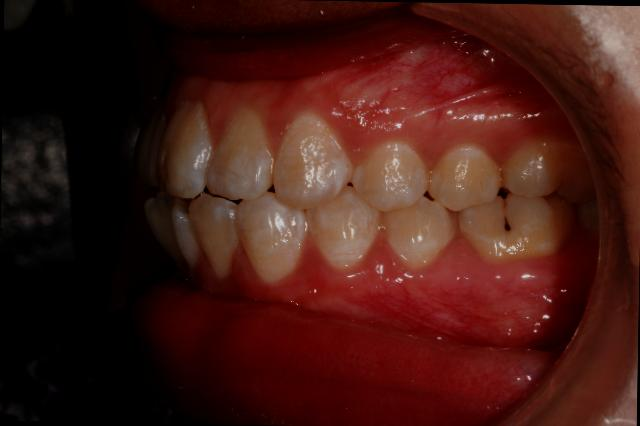canine class I: (231, 108, 385, 296)
molar class III 1/2: (456, 132, 602, 267)
